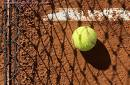tennis ball: (72, 25, 97, 51)
